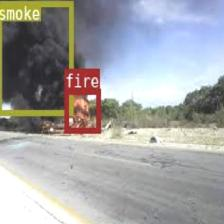fire: (64, 88, 99, 132)
smoke: (0, 0, 72, 114)
